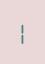one: (19, 20, 24, 44)
